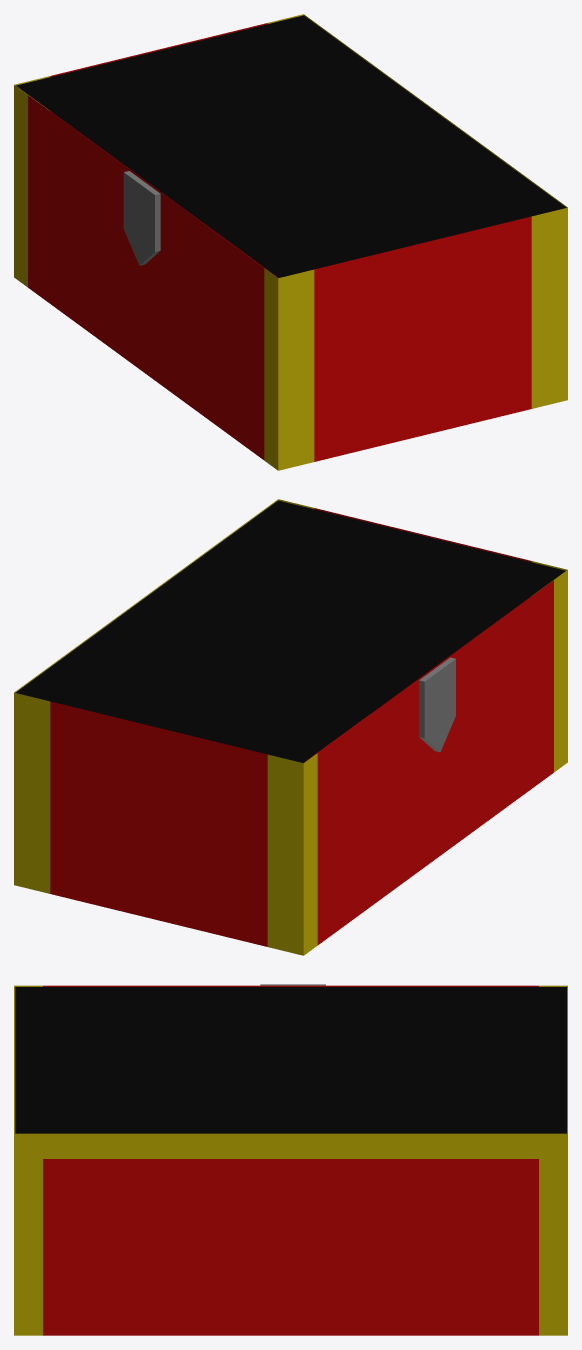
File: TreasureChest.obj
3 renders of one model, top to bottom at view 1: azimuth 30°, elevation 25°; view 2: azimuth 150°, elevation 25°; view 3: azimuth 270°, elevation 25°, orthographic. The views are drawn at different scales.
Visible parts, largest first — view 1: 立方体.027, 平面; view 2: 立方体.027, 平面; view 3: 立方体.027, 平面.
Part boxes in pixels (<box>): 立方体.027: <box>14,14,567,470</box>; 平面: <box>16,15,566,277</box>; 立方体.027: <box>14,499,567,955</box>; 平面: <box>15,500,565,762</box>; 立方体.027: <box>14,984,567,1335</box>; 平面: <box>15,987,566,1133</box>.
Size of the model in its own units: 1.24 by 0.7738 by 1.92.
